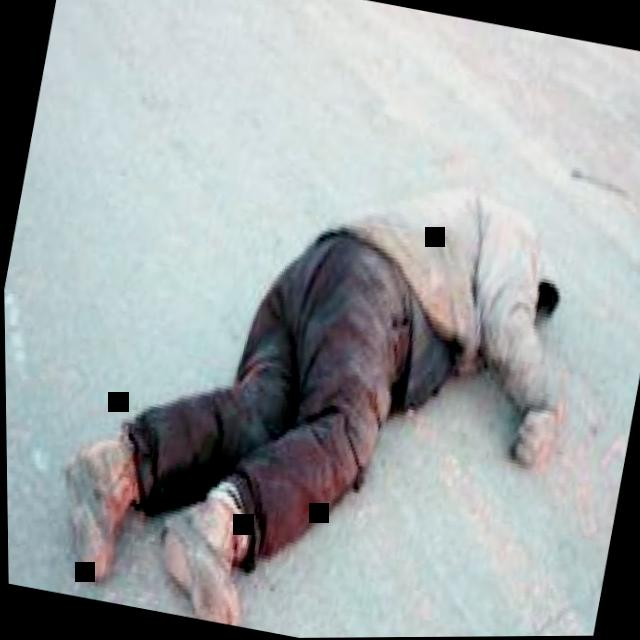Fall-Detected: (16, 91, 615, 640)
